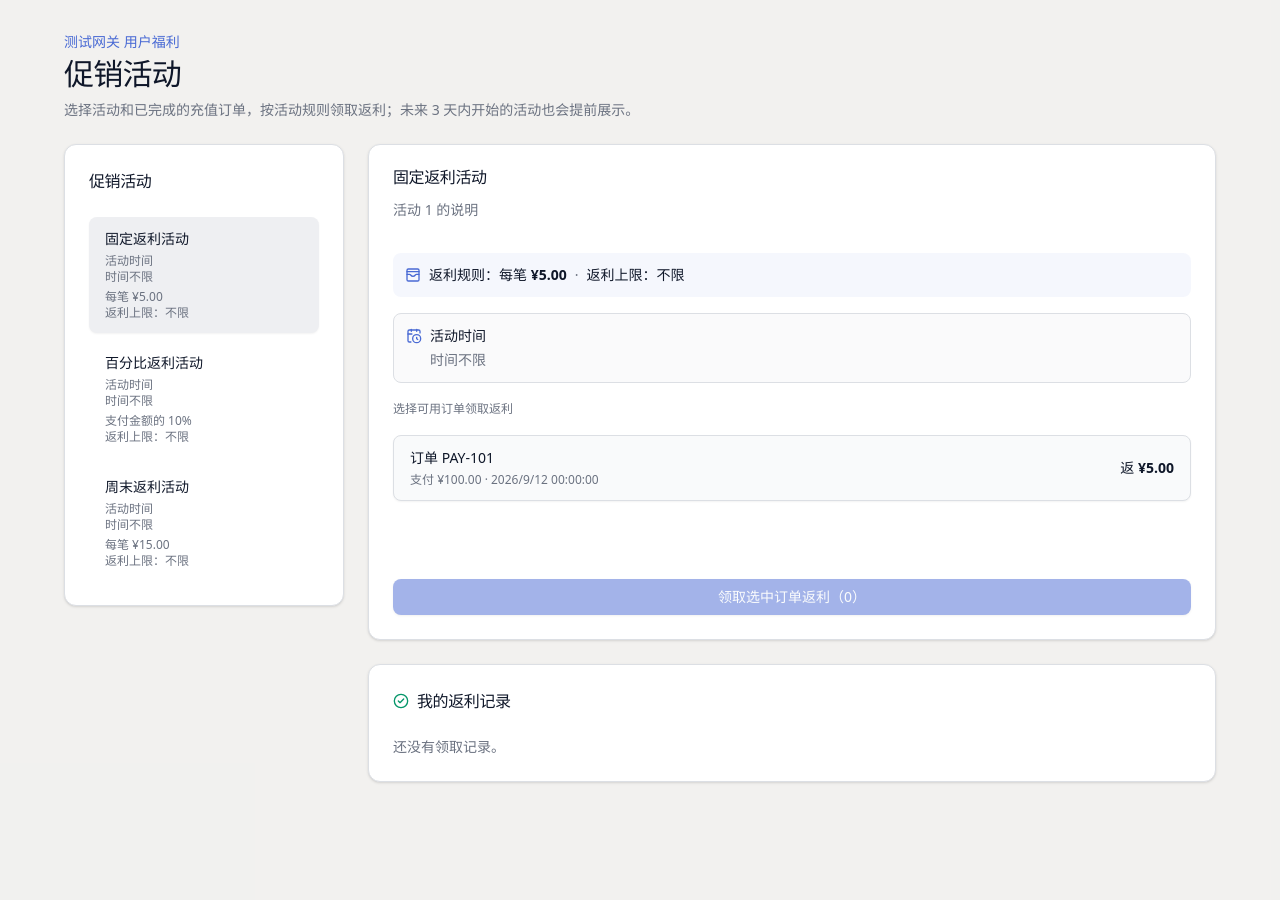
促销活动切换 › 忽略快速切换后旧请求的 success 结果
Click the button "百分比返利活动 活动时间 时间不限 支付金额的 10% 返利上限：不限".
click(204, 399)  # box x1=89 y1=341 x2=319 y2=457
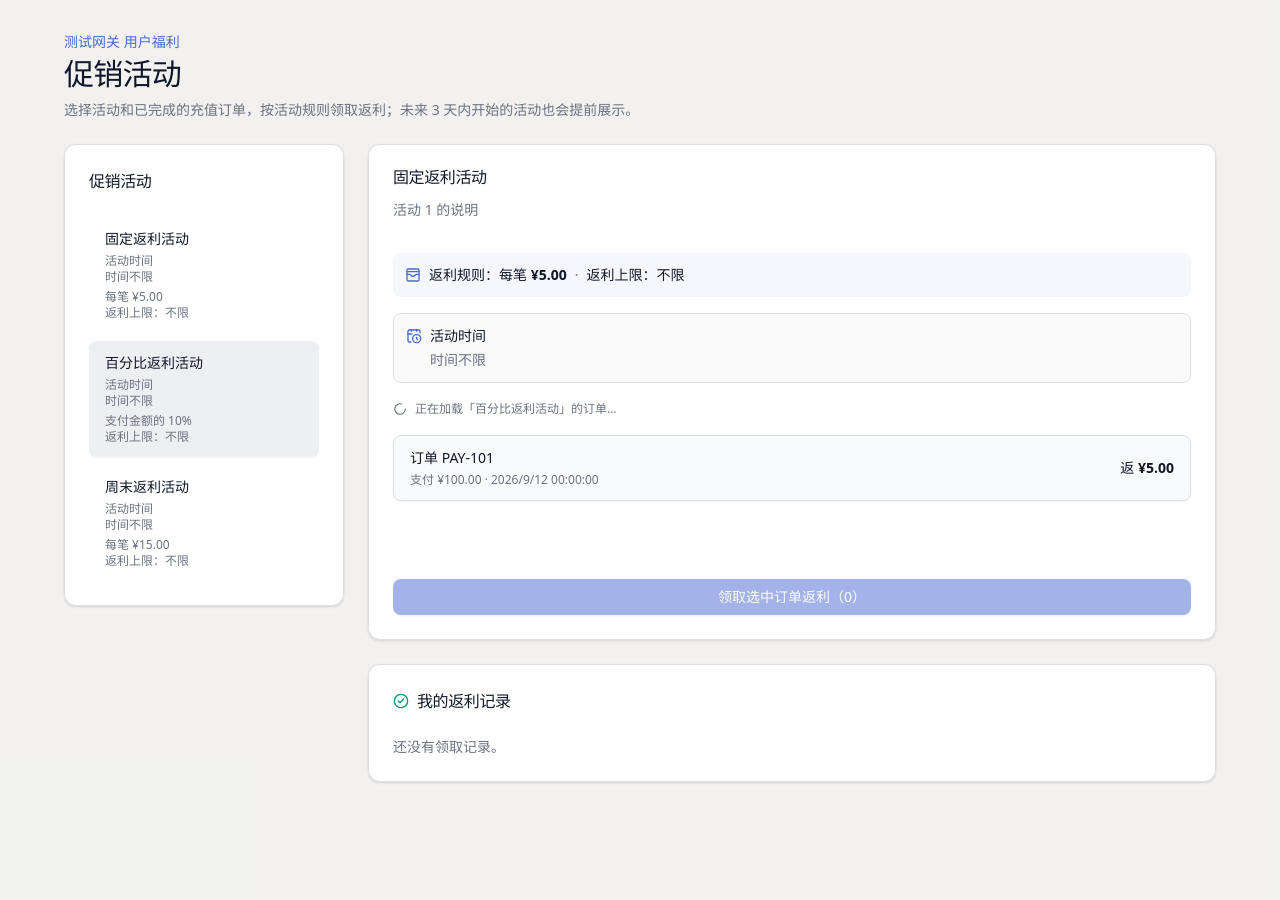
Click the button "周末返利活动 活动时间 时间不限 每笔 ¥15.00 返利上限：不限".
click(204, 523)  # box x1=89 y1=465 x2=319 y2=581
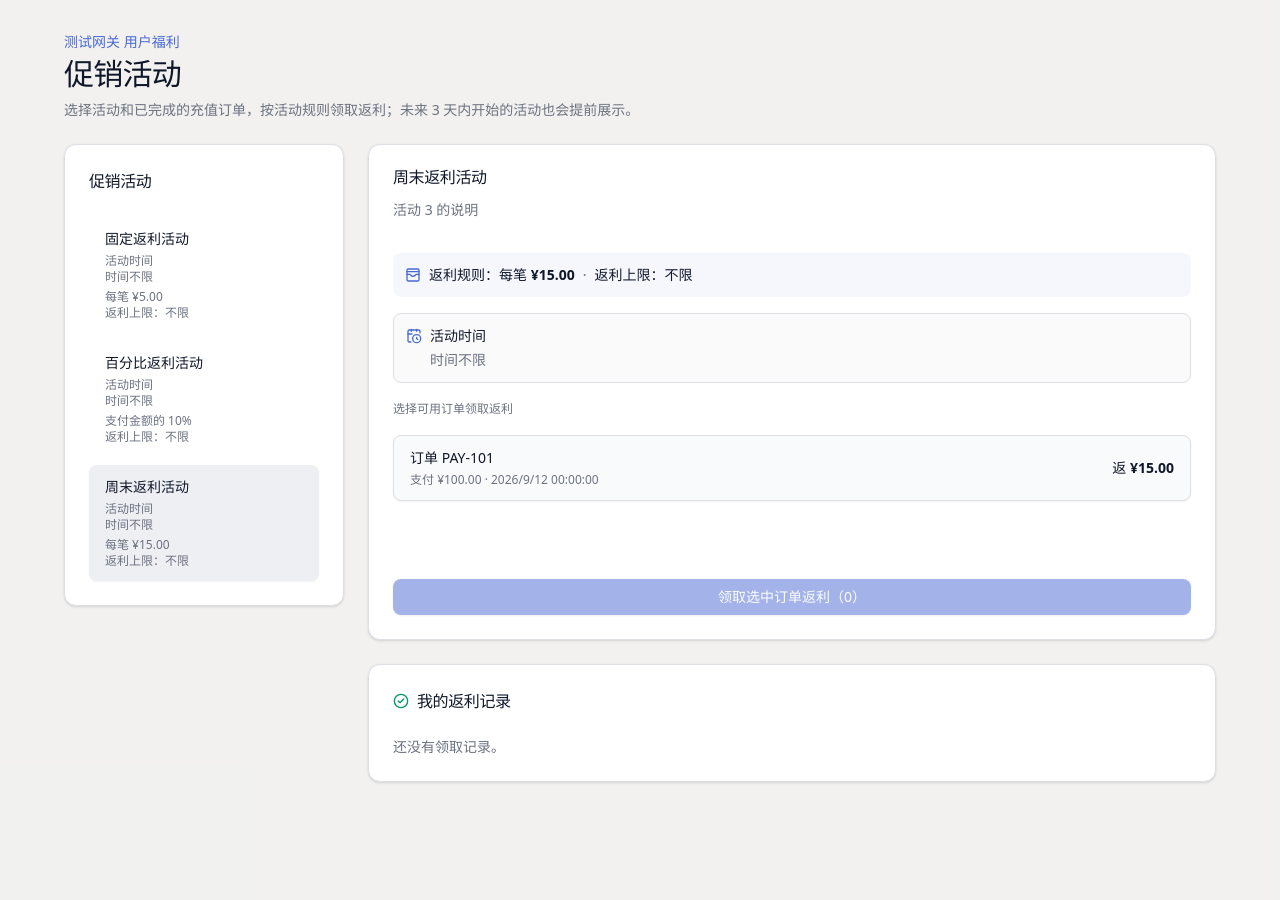
Expected: the button "订单 PAY-101 支付 ¥100.00 · 2026/9/12 00:00:00 返 ¥15.00" is shown, x1=393 y1=435 x2=1191 y2=501
Expected: the button "订单 PAY-101 支付 ¥100.00 · 2026/9/12 00:00:00 返 ¥15.00" is enabled, x1=393 y1=435 x2=1191 y2=501
Expected: the text "活动 3 的说明" is shown, x1=393 y1=200 x2=478 y2=219
